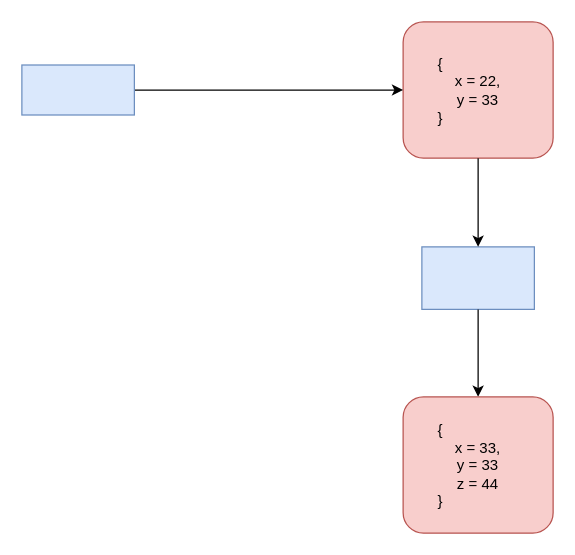
The diagram is 575 pixels wide and 555 high, and some of its shapes have lost their labels. Here are the shapes that lost their labels. From the top down, the centre of each, then its label:
(x=77, y=89): const obj
(x=477, y=277): obj.x = 33 obj.z = 44
